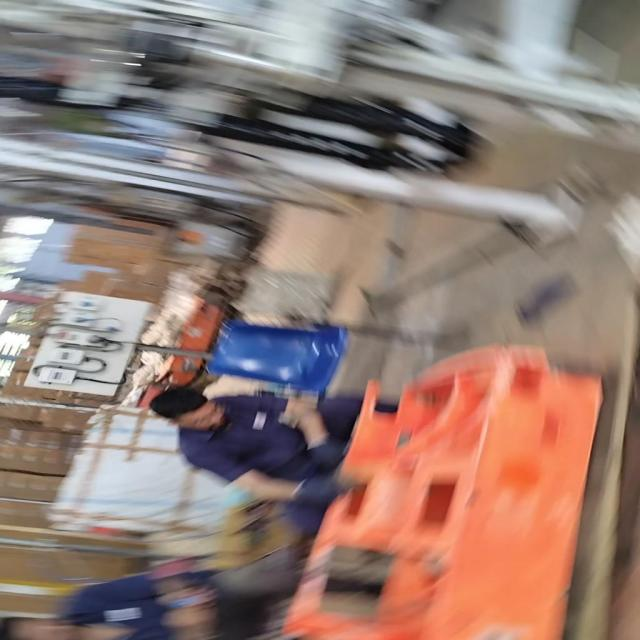Gloves-Detection: (294, 481, 344, 502), (306, 443, 332, 470)
